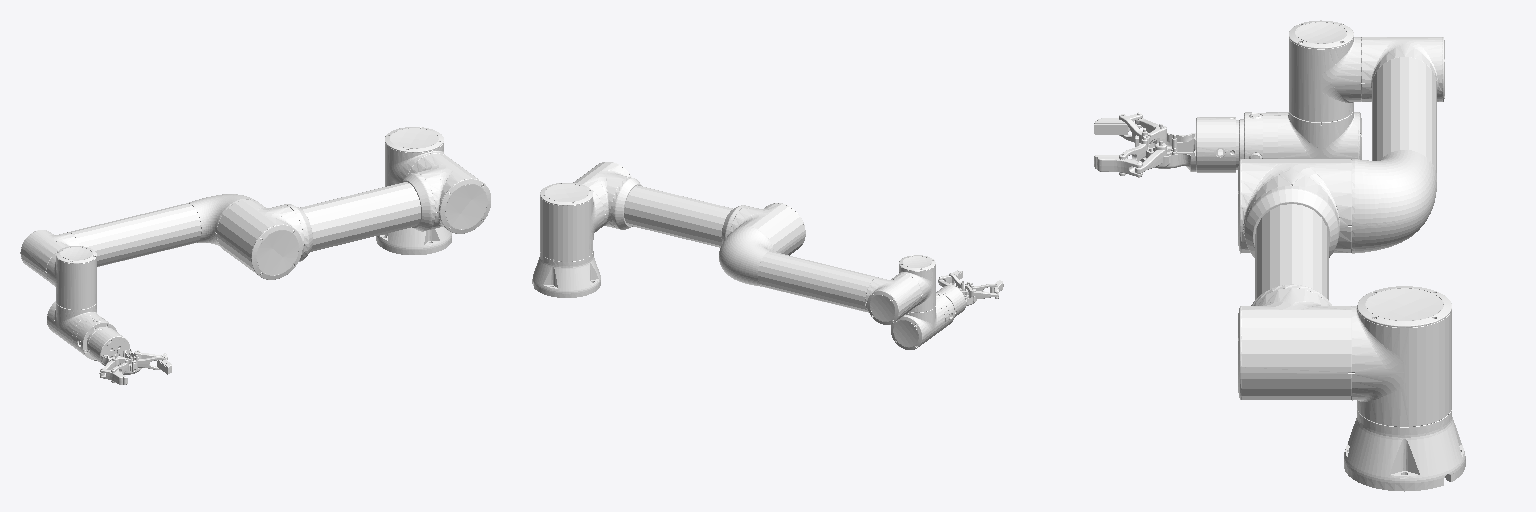
URDF robot description (fr5_v6_robot):
<?xml version="1.0" encoding="utf-8"?>
<!-- This URDF was automatically created by SolidWorks to URDF Exporter! Originally created by [author] ([email redacted]) 
     Commit Version: 1.6.0-4-g7f85cfe  Build Version: 1.6.7995.38578
     For more information, please see http://wiki.ros.org/sw_urdf_exporter -->
<robot
  name="fr5_v6_robot">
  <link
    name="base_link">
    <inertial>
      <origin
        xyz="-0.000318961542600387 -0.000296737717779892 0.0424634245004597"
        rpy="0 0 0" />
      <mass
        value="0.599445417287269" />
      <inertia
        ixx="0.00114206015555035"
        ixy="5.68658500957097E-06"
        ixz="-7.15385999297907E-06"
        iyy="0.00114168264685438"
        iyz="-6.63619940037597E-06"
        izz="0.00167440708353385" />
    </inertial>
    <visual>
      <origin
        xyz="0 0 0"
        rpy="0 0 0" />
      <geometry>
        <mesh
          filename="package://fr5_v6_robot/meshes/base_link.STL" />
      </geometry>
      <material
        name="">
        <color
          rgba="1 1 1 1" />
      </material>
    </visual>
    <collision>
      <origin
        xyz="0 0 0"
        rpy="0 0 0" />
      <geometry>
        <mesh
          filename="package://fr5_v6_robot/meshes/base_link.STL" />
      </geometry>
    </collision>
  </link>
  <link
    name="shoulder_link">
    <inertial>
      <origin
        xyz="2.54043425362496E-07 -0.00409176706424021 0.0722911216368655"
        rpy="0 0 0" />
      <mass
        value="1.62117661509796" />
      <inertia
        ixx="0.00397249991511541"
        ixy="-3.09810992717814E-08"
        ixz="-4.30264034027306E-08"
        iyy="0.00385298467188772"
        iyz="4.76738787681127E-05"
        izz="0.00302838872937248" />
    </inertial>
    <visual>
      <origin
        xyz="0 0 0"
        rpy="0 0 0" />
      <geometry>
        <mesh
          filename="package://fr5_v6_robot/meshes/shoulder_link.STL" />
      </geometry>
      <material
        name="">
        <color
          rgba="1 1 1 1" />
      </material>
    </visual>
    <collision>
      <origin
        xyz="0 0 0"
        rpy="0 0 0" />
      <geometry>
        <mesh
          filename="package://fr5_v6_robot/meshes/shoulder_link.STL" />
      </geometry>
    </collision>
  </link>
  <joint
    name="j1"
    type="revolute">
    <origin
      xyz="0 0 0.074"
      rpy="0 0 0" />
    <parent
      link="base_link" />
    <child
      link="shoulder_link" />
    <axis
      xyz="0 0 -1" />
    <limit
      lower="-3.0543"
      upper="3.0543"
      effort="150"
      velocity="3.15" />
  </joint>
  <link
    name="upperarm_link">
    <inertial>
      <origin
        xyz="-0.212492915234175 -7.09008485733076E-06 0.0746076465066917"
        rpy="0 0 0" />
      <mass
        value="5.35538518988877" />
      <inertia
        ixx="0.0105143686812902"
        ixy="4.03892194319973E-07"
        ixz="9.35359559047643E-08"
        iyy="0.168839311065467"
        iyz="2.38737767271166E-07"
        izz="0.166558529797768" />
    </inertial>
    <visual>
      <origin
        xyz="0 0 0"
        rpy="0 0 0" />
      <geometry>
        <mesh
          filename="package://fr5_v6_robot/meshes/upperarm_link.STL" />
      </geometry>
      <material
        name="">
        <color
          rgba="1 1 1 1" />
      </material>
    </visual>
    <collision>
      <origin
        xyz="0 0 0"
        rpy="0 0 0" />
      <geometry>
        <mesh
          filename="package://fr5_v6_robot/meshes/upperarm_link.STL" />
      </geometry>
    </collision>
  </link>
  <joint
    name="j2"
    type="revolute">
    <origin
      xyz="0 -0.06 0.078005"
      rpy="1.5708 0 0" />
    <parent
      link="shoulder_link" />
    <child
      link="upperarm_link" />
    <axis
      xyz="0 0 -1" />
    <limit
      lower="-4.6251"
      upper="1.4835"
      effort="150"
      velocity="3.15" />
  </joint>
  <link
    name="forearm_link">
    <inertial>
      <origin
        xyz="-0.187931222675284 -5.17729732432692E-06 -0.0533677888533835"
        rpy="0 0 0" />
      <mass
        value="2.84231321100963" />
      <inertia
        ixx="0.00296927042140079"
        ixy="5.71522618658912E-11"
        ixz="0.000105169138884858"
        iyy="0.024171129447344"
        iyz="1.6510607434085E-08"
        izz="0.0239201895483026" />
    </inertial>
    <visual>
      <origin
        xyz="0 0 0"
        rpy="0 0 0" />
      <geometry>
        <mesh
          filename="package://fr5_v6_robot/meshes/forearm_link.STL" />
      </geometry>
      <material
        name="">
        <color
          rgba="1 1 1 1" />
      </material>
    </visual>
    <collision>
      <origin
        xyz="0 0 0"
        rpy="0 0 0" />
      <geometry>
        <mesh
          filename="package://fr5_v6_robot/meshes/forearm_link.STL" />
      </geometry>
    </collision>
  </link>
  <joint
    name="j3"
    type="revolute">
    <origin
      xyz="-0.425 0 0"
      rpy="0 0 0" />
    <parent
      link="upperarm_link" />
    <child
      link="forearm_link" />
    <axis
      xyz="0 0 1" />
    <limit
      lower="-2.8274"
      upper="2.8274"
      effort="150"
      velocity="3.15" />
  </joint>
  <link
    name="wrist1_link">
    <inertial>
      <origin
        xyz="9.61744409666565E-07 -0.00373727630077075 0.0388569692322945"
        rpy="0 0 0" />
      <mass
        value="0.602619088313916" />
      <inertia
        ixx="0.000799558602001568"
        ixy="-6.61348687929575E-10"
        ixz="1.56140147598554E-08"
        iyy="0.00057218778493398"
        iyz="1.39689728505921E-05"
        izz="0.0007366846106067" />
    </inertial>
    <visual>
      <origin
        xyz="0 0 0"
        rpy="0 0 0" />
      <geometry>
        <mesh
          filename="package://fr5_v6_robot/meshes/wrist1_link.STL" />
      </geometry>
      <material
        name="">
        <color
          rgba="1 1 1 1" />
      </material>
    </visual>
    <collision>
      <origin
        xyz="0 0 0"
        rpy="0 0 0" />
      <geometry>
        <mesh
          filename="package://fr5_v6_robot/meshes/wrist1_link.STL" />
      </geometry>
    </collision>
  </link>
  <joint
    name="j4"
    type="revolute">
    <origin
      xyz="-0.39499 0 -0.0018"
      rpy="0 0 0" />
    <parent
      link="forearm_link" />
    <child
      link="wrist1_link" />
    <axis
      xyz="0 0 -1" />
    <limit
      lower="-4.6251"
      upper="1.4835"
      effort="28"
      velocity="3.2" />
  </joint>
  <link
    name="wrist2_link">
    <inertial>
      <origin
        xyz="-9.88925088596382E-07 0.00384438406606774 0.0400593085942963"
        rpy="0 0 0" />
      <mass
        value="0.585831199618643" />
      <inertia
        ixx="0.000762973926836359"
        ixy="-7.44253657922067E-10"
        ixz="-1.63614965173779E-08"
        iyy="0.00053598386135184"
        iyz="-1.0573265148968E-05"
        izz="0.000724499807646577" />
    </inertial>
    <visual>
      <origin
        xyz="0 0 0"
        rpy="0 0 0" />
      <geometry>
        <mesh
          filename="package://fr5_v6_robot/meshes/wrist2_link.STL" />
      </geometry>
      <material
        name="">
        <color
          rgba="1 1 1 1" />
      </material>
    </visual>
    <collision>
      <origin
        xyz="0 0 0"
        rpy="0 0 0" />
      <geometry>
        <mesh
          filename="package://fr5_v6_robot/meshes/wrist2_link.STL" />
      </geometry>
    </collision>
  </link>
  <joint
    name="j5"
    type="revolute">
    <origin
      xyz="0 -0.0582 0.0438"
      rpy="1.5708 0 0" />
    <parent
      link="wrist1_link" />
    <child
      link="wrist2_link" />
    <axis
      xyz="0 0 -1" />
    <limit
      lower="-3.0543"
      upper="3.0543"
      effort="28"
      velocity="3.2" />
  </joint>
  <link
    name="wrist3_link">
    <inertial>
      <origin
        xyz="1.02905081019733E-05 -0.0011010742373334 0.0388922369262"
        rpy="0 0 0" />
      <mass
        value="0.298930155859966" />
      <inertia
        ixx="0.000153323657274279"
        ixy="1.28980332451716E-07"
        ixz="-2.24502990433706E-07"
        iyy="0.000160212542519835"
        iyz="-1.13634738846193E-06"
        izz="0.000216594365084739" />
    </inertial>
    <visual>
      <origin
        xyz="0 0 0"
        rpy="0 0 0" />
      <geometry>
        <mesh
          filename="package://fr5_v6_robot/meshes/wrist3_link.STL" />
      </geometry>
      <material
        name="">
        <color
          rgba="1 1 1 1" />
      </material>
    </visual>
    <collision>
      <origin
        xyz="0 0 0"
        rpy="0 0 0" />
      <geometry>
        <mesh
          filename="package://fr5_v6_robot/meshes/wrist3_link.STL" />
      </geometry>
    </collision>
  </link>
  <joint
    name="j6"
    type="revolute">
    <origin
      xyz="0 0.0582 0.0438"
      rpy="-1.5708 0 0" />
    <parent
      link="wrist2_link" />
    <child
      link="wrist3_link" />
    <axis
      xyz="0 0 -1" />
    <limit
      lower="-3.0543"
      upper="3.0543"
      effort="28"
      velocity="3.2" />
  </joint>
  <link
    name="gripper_link1_left">
    <inertial>
      <origin
        xyz="0.00861879642773866 -0.00692892768995967 -0.0138491969037787"
        rpy="0 0 0" />
      <mass
        value="0.011093636660722" />
      <inertia
        ixx="1.08934890488146E-06"
        ixy="9.14784315436547E-07"
        ixz="-2.72327027270803E-07"
        iyy="3.7244617985658E-06"
        iyz="-3.30196602144741E-08"
        izz="4.12126588200292E-06" />
    </inertial>
    <visual>
      <origin
        xyz="0 0 0"
        rpy="0 0 0" />
      <geometry>
        <mesh
          filename="package://fr5_v6_robot/meshes/gripper_link1_left.STL" />
      </geometry>
      <material
        name="">
        <color
          rgba="1 1 1 1" />
      </material>
    </visual>
    <collision>
      <origin
        xyz="0 0 0"
        rpy="0 0 0" />
      <geometry>
        <mesh
          filename="package://fr5_v6_robot/meshes/gripper_link1_left.STL" />
      </geometry>
    </collision>
  </link>
  <joint
    name="gripper_joint1_left"
    type="revolute">
    <origin
      xyz="0.025 0.01295 0.1377"
      rpy="-1.5708 0 0" />
    <parent
      link="wrist3_link" />
    <child
      link="gripper_link1_left" />
    <limit
      lower="-1.026"
      upper="0.0"
      effort="0.0"
      velocity="0.0" />
    <axis
      xyz="0 0 1" />
  </joint>
  <link
    name="gripper_link3_left">
    <inertial>
      <origin
        xyz="-0.014334790338123 0.0267713170536268 0.00950100988902113"
        rpy="0 0 0" />
      <mass
        value="0.010606965856657" />
      <inertia
        ixx="2.21321677437824E-06"
        ixy="3.74961617991863E-07"
        ixz="-8.78418529092171E-13"
        iyy="4.64511110876489E-07"
        iyz="3.35600108017678E-12"
        izz="2.12521562895475E-06" />
    </inertial>
    <visual>
      <origin
        xyz="0 0 0"
        rpy="0 0 0" />
      <geometry>
        <mesh
          filename="package://fr5_v6_robot/meshes/gripper_link3_left.STL" />
      </geometry>
      <material
        name="">
        <color
          rgba="1 1 1 1" />
      </material>
    </visual>
    <collision>
      <origin
        xyz="0 0 0"
        rpy="0 0 0" />
      <geometry>
        <mesh
          filename="package://fr5_v6_robot/meshes/gripper_link3_left.STL" />
      </geometry>
    </collision>
  </link>
  <joint
    name="gripper_joint3_left"
    type="continuous">
    <origin
      xyz="0.045648 -0.026931 -0.00345"
      rpy="3.1416 0 0" />
    <parent
      link="gripper_link1_left" />
    <child
      link="gripper_link3_left" />
    <axis
      xyz="0 0 1" />
    <mimic
      joint="gripper_joint1_left"
      multiplier="1"
      offset="0" />
  </joint>
  <link
    name="gripper_link2_left">
    <inertial>
      <origin
        xyz="0.0178239345820016 -0.0105147724306264 -0.0127148556432755"
        rpy="0 0 0" />
      <mass
        value="0.00620002211597296" />
      <inertia
        ixx="7.9560070463818E-07"
        ixy="7.00601361842959E-07"
        ixz="-3.75396894165927E-12"
        iyy="1.56948221841704E-06"
        iyz="3.08077226459159E-12"
        izz="1.65589855616728E-06" />
    </inertial>
    <visual>
      <origin
        xyz="0 0 0"
        rpy="0 0 0" />
      <geometry>
        <mesh
          filename="package://fr5_v6_robot/meshes/gripper_link2_left.STL" />
      </geometry>
      <material
        name="">
        <color
          rgba="1 1 1 1" />
      </material>
    </visual>
    <collision>
      <origin
        xyz="0 0 0"
        rpy="0 0 0" />
      <geometry>
        <mesh
          filename="package://fr5_v6_robot/meshes/gripper_link2_left.STL" />
      </geometry>
    </collision>
  </link>
  <joint
    name="gripper_joint2_left"
    type="continuous">
    <origin
      xyz="0.0115 0.01295 0.1577"
      rpy="-1.5708 0 0" />
    <parent
      link="wrist3_link" />
    <child
      link="gripper_link2_left" />
    <axis
      xyz="0 0 1" />
    <mimic
      joint="gripper_joint1_left"
      multiplier="1"
      offset="0" />
  </joint>
  <link
    name="gripper_link1_right">
    <inertial>
      <origin
        xyz="-0.0086188 0.0069289 0.011788"
        rpy="0 0 0" />
      <mass
        value="0.011094" />
      <inertia
        ixx="1.0893E-06"
        ixy="9.1478E-07"
        ixz="2.7233E-07"
        iyy="3.7245E-06"
        iyz="3.302E-08"
        izz="4.1213E-06" />
    </inertial>
    <visual>
      <origin
        xyz="0 0 0"
        rpy="0 0 0" />
      <geometry>
        <mesh
          filename="package://fr5_v6_robot/meshes/gripper_link1_right.STL" />
      </geometry>
      <material
        name="">
        <color
          rgba="1 1 1 1" />
      </material>
    </visual>
    <collision>
      <origin
        xyz="0 0 0"
        rpy="0 0 0" />
      <geometry>
        <mesh
          filename="package://fr5_v6_robot/meshes/gripper_link1_right.STL" />
      </geometry>
    </collision>
  </link>
  <joint
    name="gripper_joint1_right"
    type="continuous">
    <origin
      xyz="-0.025 0.01295 0.1377"
      rpy="1.5708 0 0" />
    <parent
      link="wrist3_link" />
    <child
      link="gripper_link1_right" />
    <axis
      xyz="0 0 1" />
    <mimic
      joint="gripper_joint1_left"
      multiplier="1"
      offset="0" />
  </joint>
  <link
    name="gripper_link3_right">
    <inertial>
      <origin
        xyz="0.014421 -0.02676 -0.010499"
        rpy="0 0 0" />
      <mass
        value="0.010771" />
      <inertia
        ixx="2.2138E-06"
        ixy="3.7495E-07"
        ixz="8.7931E-13"
        iyy="4.6637E-07"
        iyz="-3.3563E-12"
        izz="2.1271E-06" />
    </inertial>
    <visual>
      <origin
        xyz="0 0 0"
        rpy="0 0 0" />
      <geometry>
        <mesh
          filename="package://fr5_v6_robot/meshes/gripper_link3_right.STL" />
      </geometry>
      <material
        name="">
        <color
          rgba="1 1 1 1" />
      </material>
    </visual>
    <collision>
      <origin
        xyz="0 0 0"
        rpy="0 0 0" />
      <geometry>
        <mesh
          filename="package://fr5_v6_robot/meshes/gripper_link3_right.STL" />
      </geometry>
    </collision>
  </link>
  <joint
    name="gripper_joint3_right"
    type="continuous">
    <origin
      xyz="-0.045648 0.026931 0.00245"
      rpy="-3.1416 0 0" />
    <parent
      link="gripper_link1_right" />
    <child
      link="gripper_link3_right" />
    <axis
      xyz="0 0 1" />
    <mimic
      joint="gripper_joint1_left"
      multiplier="1"
      offset="0" />
  </joint>
  <link
    name="gripper_link2_right">
    <inertial>
      <origin
        xyz="-0.017824 0.010515 0.012715"
        rpy="0 0 0" />
      <mass
        value="0.0062" />
      <inertia
        ixx="7.956E-07"
        ixy="7.006E-07"
        ixz="3.754E-12"
        iyy="1.5695E-06"
        iyz="-3.0808E-12"
        izz="1.6559E-06" />
    </inertial>
    <visual>
      <origin
        xyz="0 0 0"
        rpy="0 0 0" />
      <geometry>
        <mesh
          filename="package://fr5_v6_robot/meshes/gripper_link2_right.STL" />
      </geometry>
      <material
        name="">
        <color
          rgba="1 1 1 1" />
      </material>
    </visual>
    <collision>
      <origin
        xyz="0 0 0"
        rpy="0 0 0" />
      <geometry>
        <mesh
          filename="package://fr5_v6_robot/meshes/gripper_link2_right.STL" />
      </geometry>
    </collision>
  </link>
  <joint
    name="gripper_joint2_right"
    type="continuous">
    <origin
      xyz="-0.0115 0.01295 0.1577"
      rpy="1.5708 0 0" />
    <parent
      link="wrist3_link" />
    <child
      link="gripper_link2_right" />
    <axis
      xyz="0 0 1" />
    <mimic
      joint="gripper_joint1_left"
      multiplier="1"
      offset="0" />
  </joint>
</robot>

--- What the picture shows (computed from the rendered views, not written in the file) ---
The picture shows the robot from 3 angles, left to right: view 1: azimuth 30°, elevation 25°; view 2: azimuth 150°, elevation 25°; view 3: azimuth 270°, elevation 25°; orthographic projection.
Model fr5_v6_robot with 13 links and 12 joints (7 revolute, 5 continuous), rooted at base_link, posed every joint at zero.
Links seen in each view (by area): view 1: upperarm_link, forearm_link, wrist1_link, shoulder_link, wrist3_link, base_link, wrist2_link; view 2: upperarm_link, forearm_link, shoulder_link, base_link, wrist2_link, wrist1_link, wrist3_link; view 3: upperarm_link, forearm_link, shoulder_link, base_link, wrist1_link, wrist3_link, wrist2_link, gripper_link3_left, gripper_link3_right.
Boxes of the visible links, left/top/right/bottom form: upperarm_link: left=217, top=153, right=490, bottom=279; forearm_link: left=20, top=194, right=257, bottom=280; wrist1_link: left=46, top=246, right=96, bottom=309; shoulder_link: left=385, top=127, right=447, bottom=186; wrist3_link: left=72, top=315, right=141, bottom=374; base_link: left=376, top=227, right=451, bottom=254; wrist2_link: left=47, top=301, right=100, bottom=348; upperarm_link: left=573, top=162, right=805, bottom=255; forearm_link: left=719, top=226, right=921, bottom=324; shoulder_link: left=540, top=183, right=604, bottom=261; base_link: left=532, top=251, right=600, bottom=297; wrist2_link: left=891, top=303, right=944, bottom=349; wrist1_link: left=896, top=255, right=935, bottom=312; wrist3_link: left=936, top=282, right=976, bottom=330; upperarm_link: left=1238, top=159, right=1351, bottom=399; forearm_link: left=1352, top=37, right=1444, bottom=253; shoulder_link: left=1352, top=286, right=1451, bottom=426; base_link: left=1344, top=408, right=1465, bottom=491; wrist1_link: left=1289, top=20, right=1360, bottom=121; wrist3_link: left=1135, top=112, right=1277, bottom=172; wrist2_link: left=1278, top=111, right=1361, bottom=159; gripper_link3_left: left=1094, top=155, right=1142, bottom=177; gripper_link3_right: left=1094, top=112, right=1142, bottom=134.
Size in the robot's own frame: 0.9704 by 0.4538 by 0.2174 metres.
13 mesh visuals loaded from 13 distinct referenced files (13 binary STL).